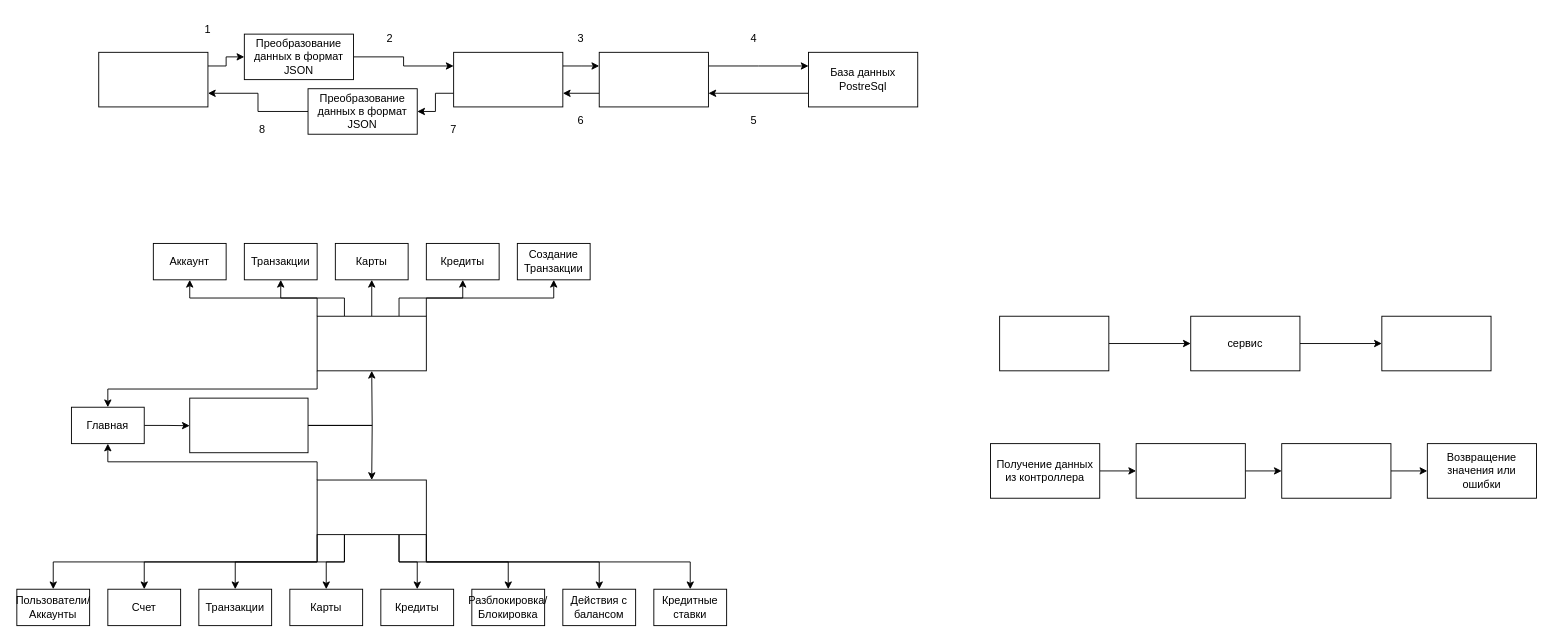
Image size: 1552x642. Some labels were removed from this diagram. The centre of each missing label's shape, as x and y in pixels:
API на C#: point (508, 79)
Авторизация/Аутентификация: point (248, 425)
Администратор: point (371, 507)
запрос в базу данных: point (1436, 343)
Клиент: point (371, 343)
Клиент на React JS: point (153, 79)
Некоторые действия с полученными данными: point (1336, 470)
Обработка данных: point (1190, 470)
Обработка данных на вход/выход: point (653, 79)
Энд поинт внутри контроллера: point (1054, 343)
